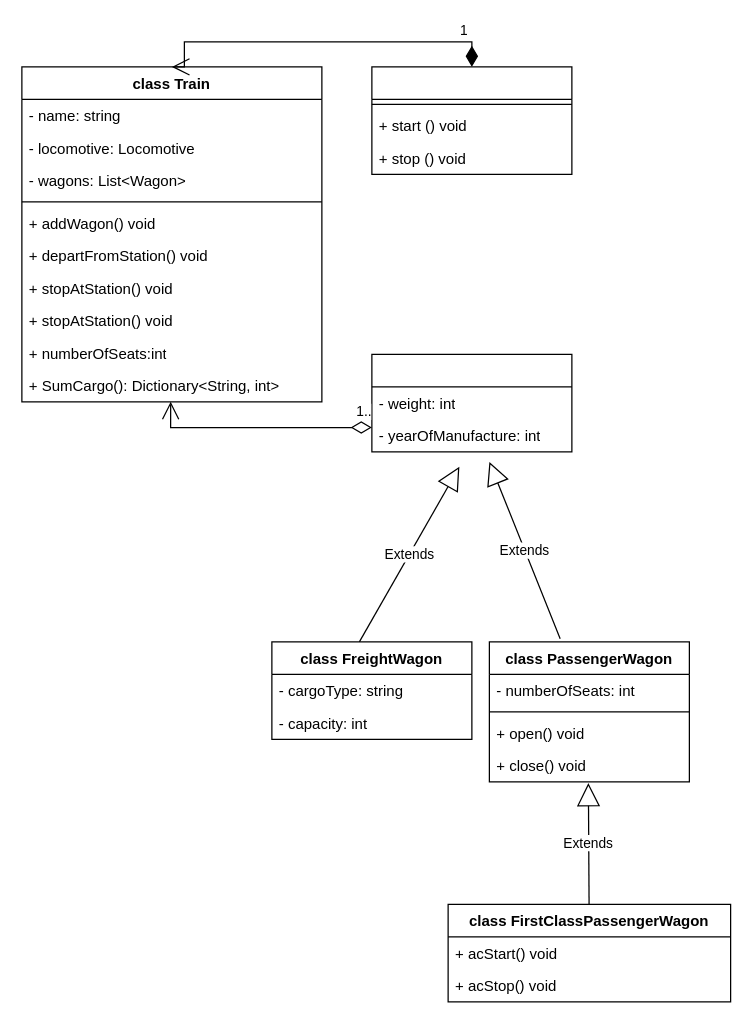
Image size: 753x1028. Some labels were removed from this diagram. The box of each missing label's shape, as (x1, y1, x2, y2) in pixels:
class Locomotive: (371, 66, 572, 174)
class Wagon: (371, 353, 572, 452)
